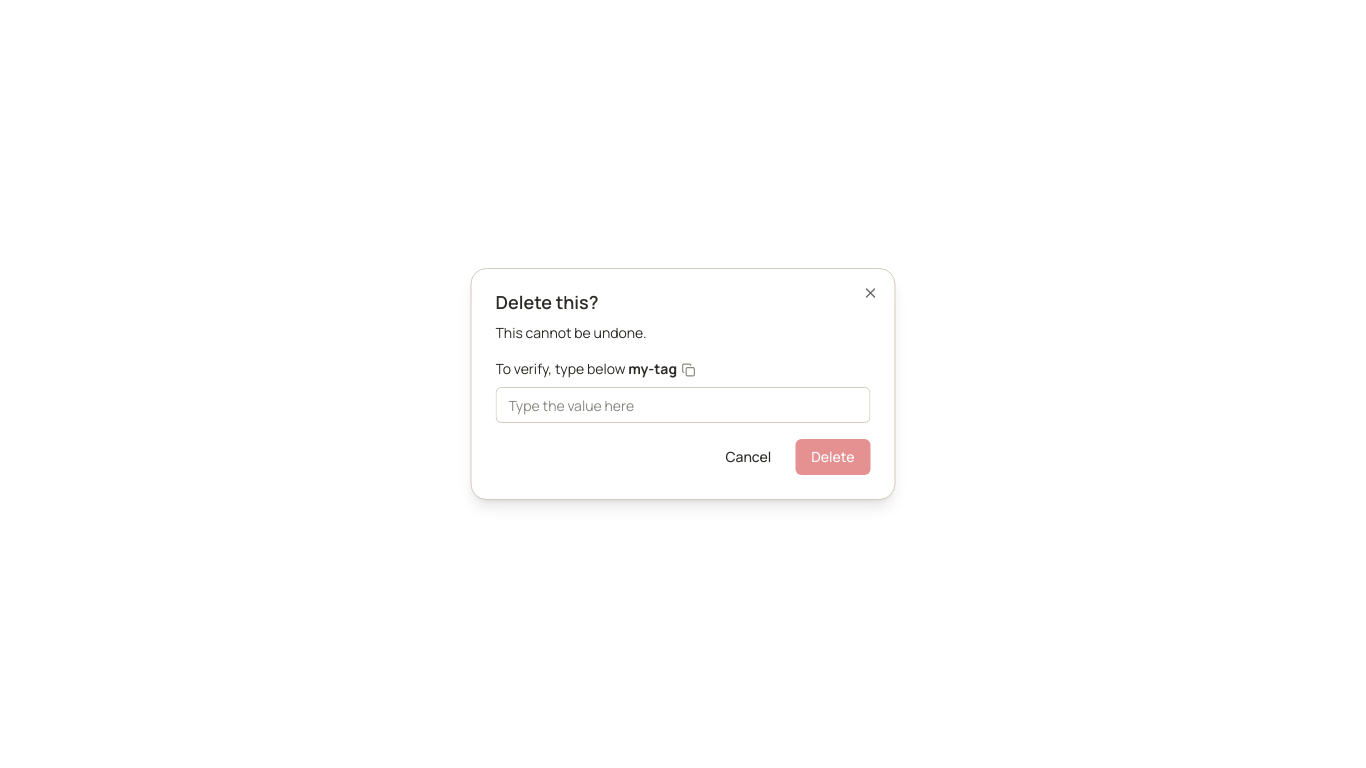
Test case: DeleteConfirmationModal in desktop dialog › keeps confirm disabled until the exact confirmation value is typed
This screenshot has width=1366, height=768.
Type "my-ta" into the field at (683, 405), box [496,387,870,423]
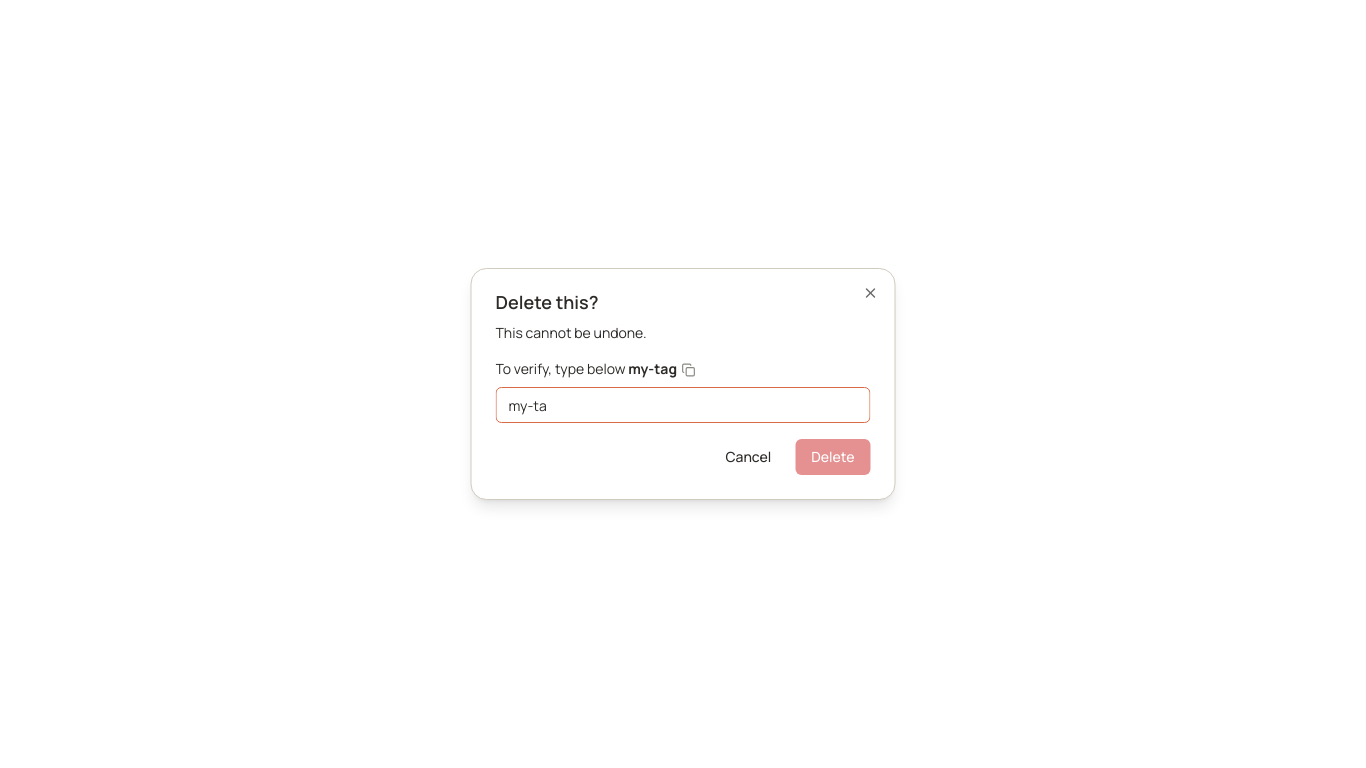
expect the button "Delete" is disabled: met, box [795,439,870,475]
Type "g" into the field at (683, 405), box [496,387,870,423]
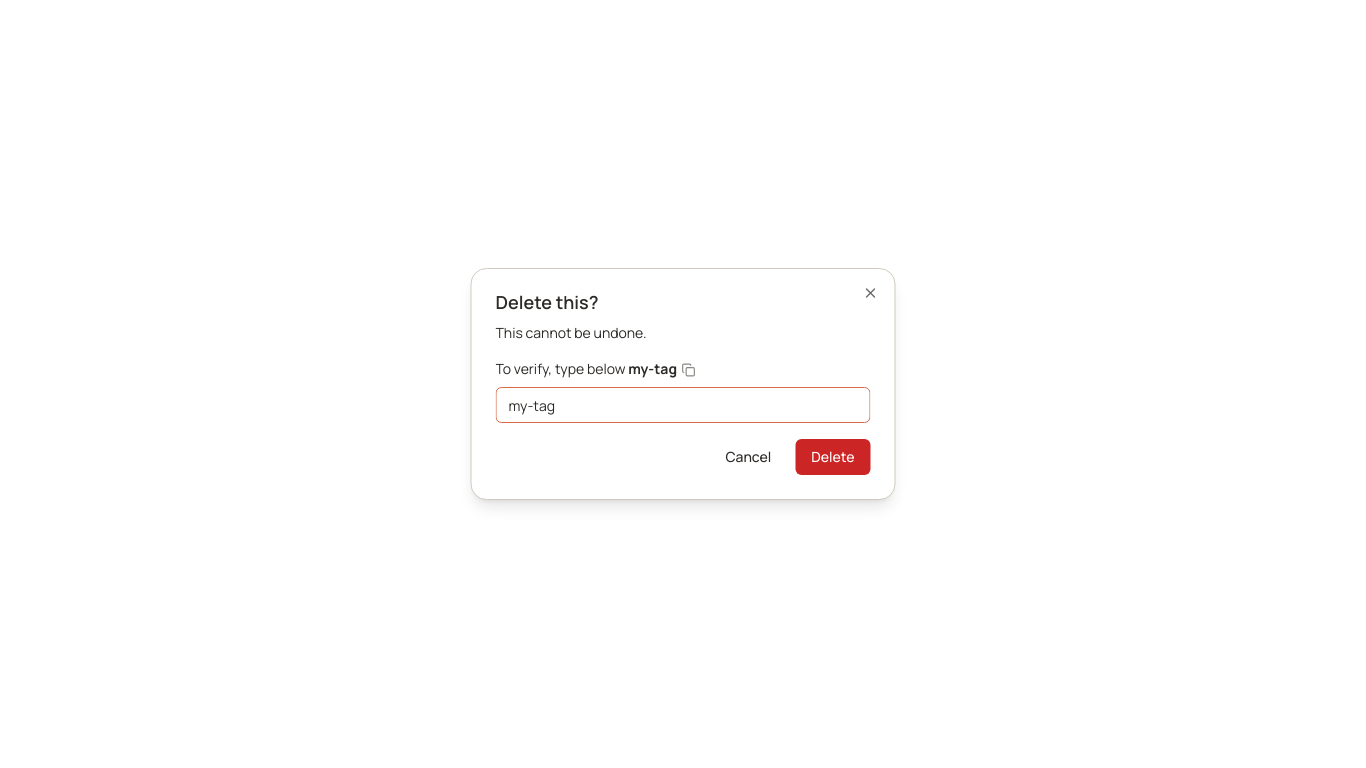
expect the button "Delete" is enabled: met, box [795,439,870,475]
